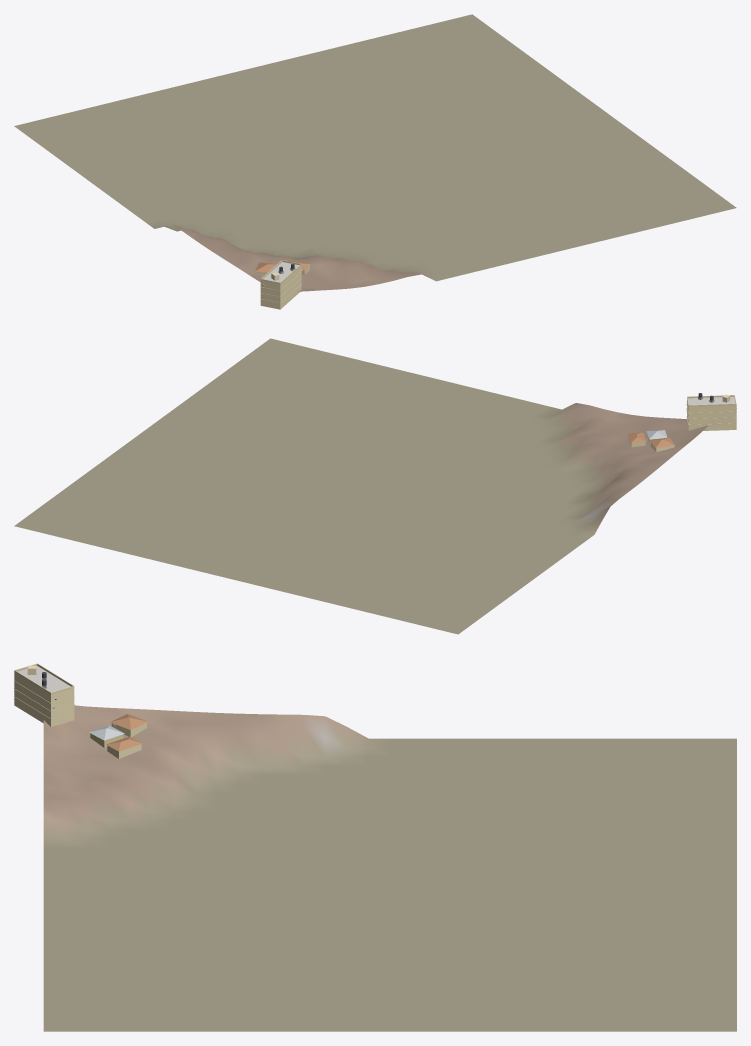
3 views of the same model, one above another, from view 1: azimuth 30°, elevation 25°; view 2: azimuth 150°, elevation 25°; view 3: azimuth 270°, elevation 25° (orthographic). The views are drawn at different scales.
Parts seen in each view (by area): view 1: Terrain-col, Buildings-col, Details; view 2: Terrain-col, Buildings-col, Details; view 3: Terrain-col, Buildings-col, Details.
Part boxes in pixels (x1,y1,x2,y2): Terrain-col: (14,14,736,291); Buildings-col: (255,260,310,309); Details: (260,260,301,302); Terrain-col: (14,338,708,634); Buildings-col: (627,396,736,451); Details: (686,393,736,425); Terrain-col: (43,705,736,1031); Buildings-col: (14,666,148,758); Details: (14,663,115,726).
Bounding box in the file's own units: 267 × 27.67 × 267.
